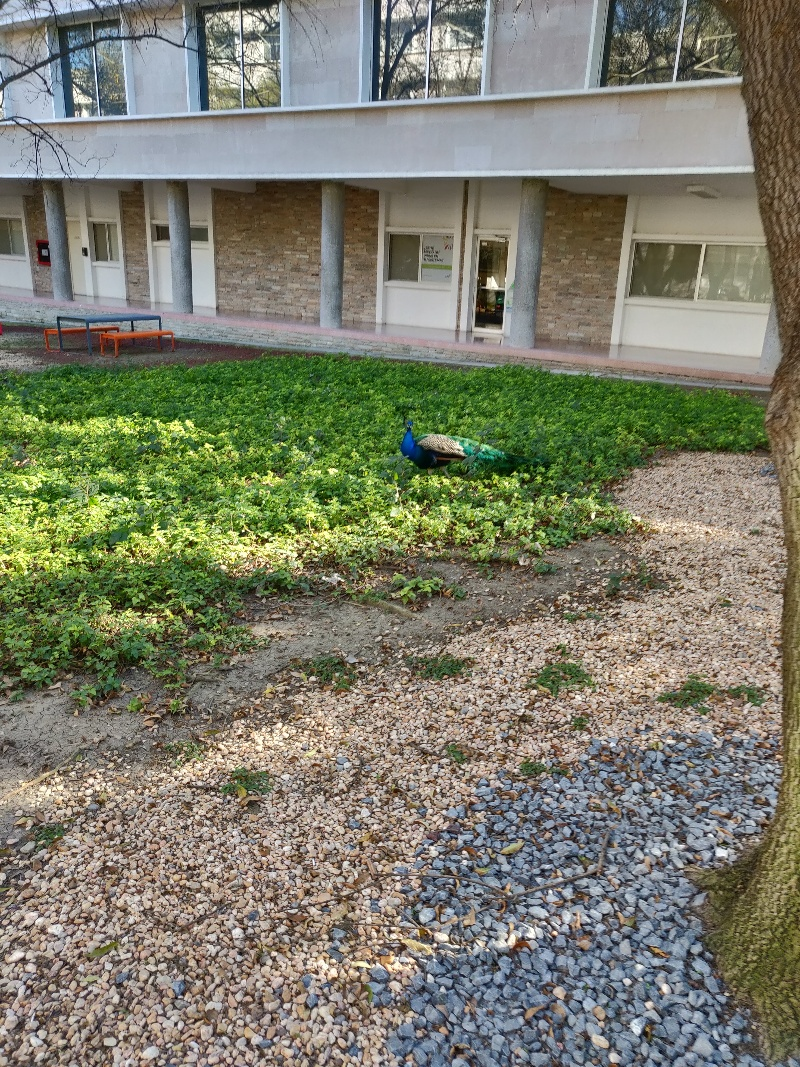pavoreal: (396, 419, 510, 476)
